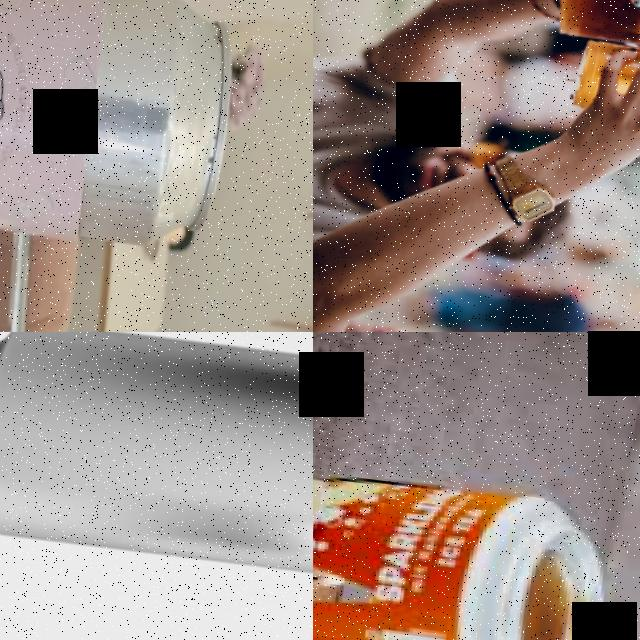can: (0, 332, 313, 603), (0, 0, 238, 256)
cup: (565, 38, 640, 157)
